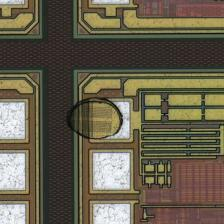COATING BAD: (69, 98, 124, 139)
